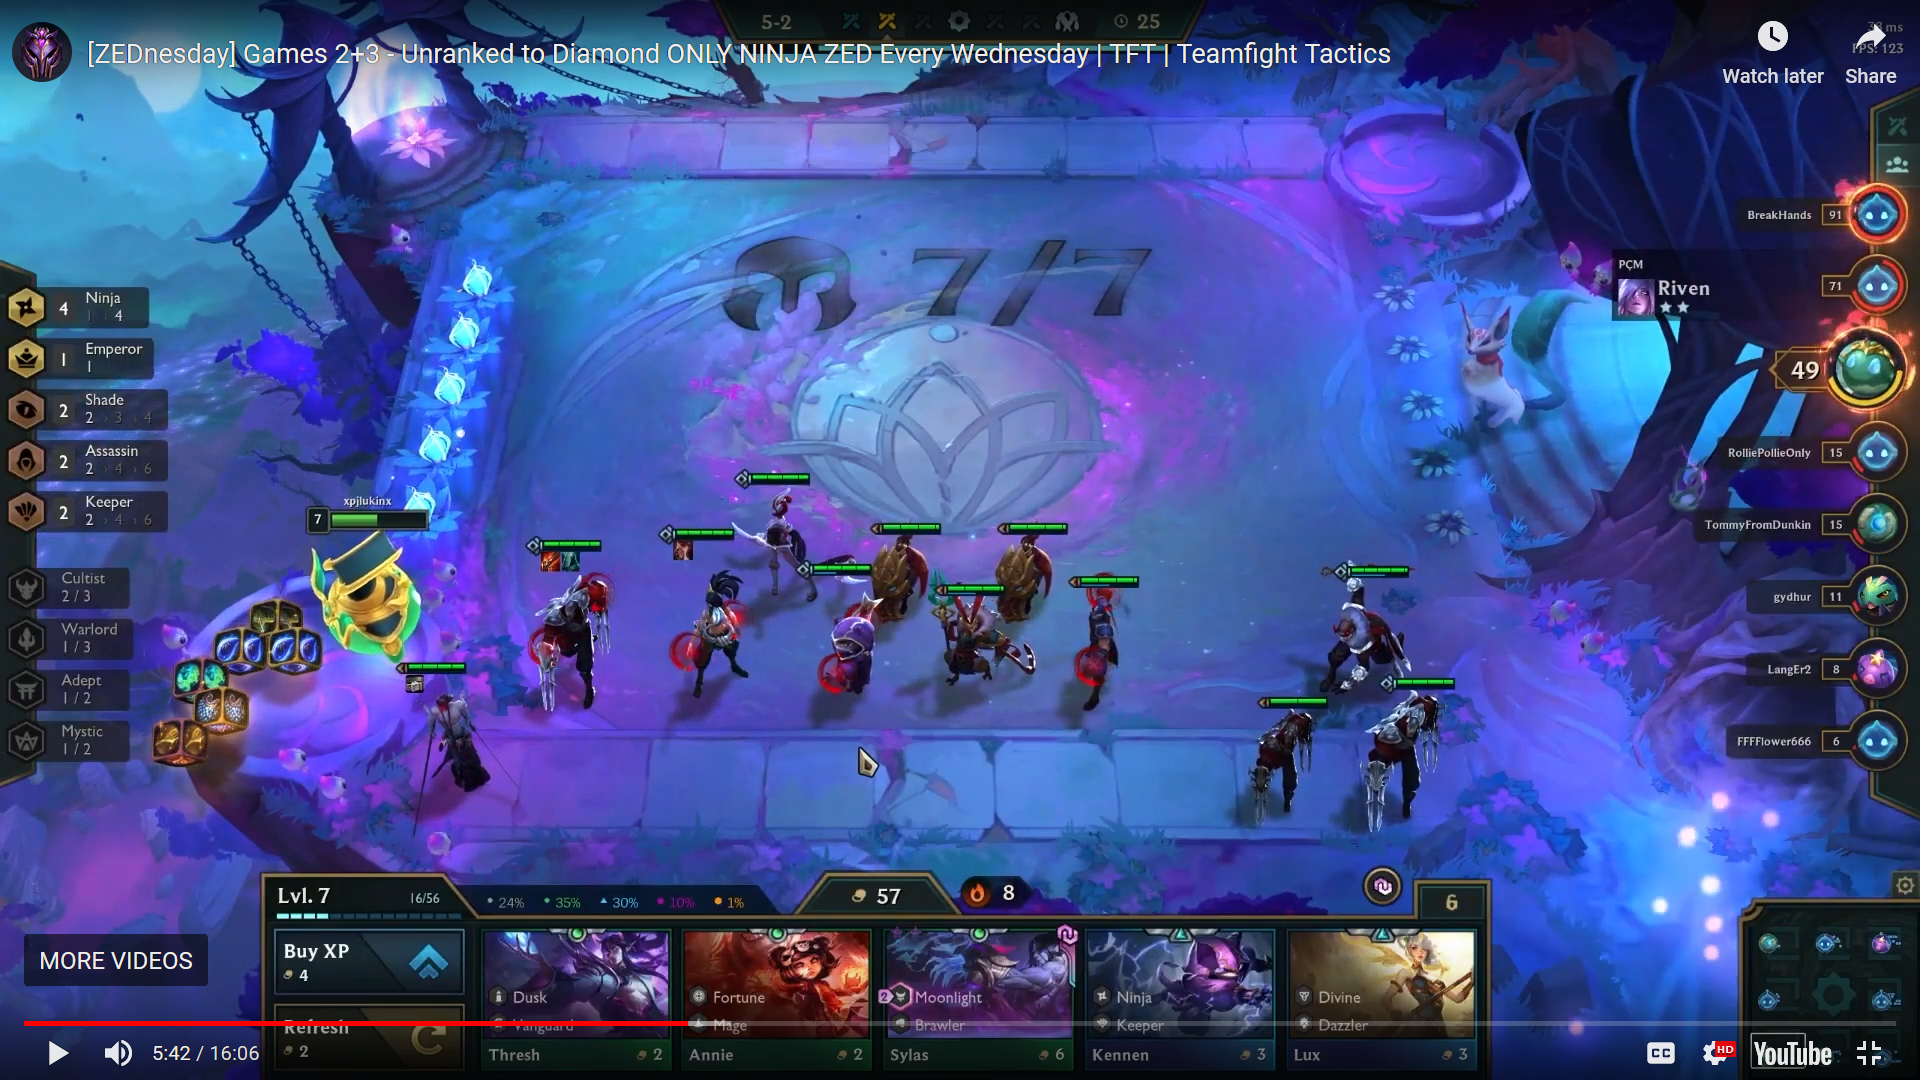1star_azir: (914, 568, 1048, 713)
1star_azirsoldier: (971, 508, 1076, 636), (847, 506, 951, 634)
1star_shen: (1054, 560, 1156, 728)
1star_yone: (384, 649, 535, 848)
2star_akali: (640, 506, 771, 717)
2star_evelynn: (719, 463, 829, 617)
2star_kennen: (786, 551, 903, 713)
2star_pyke: (1302, 545, 1432, 717)
2star_zed: (505, 524, 626, 724), (1346, 663, 1462, 844)
item_belt: (402, 670, 427, 698)
item_quicksilver: (558, 549, 582, 574)
item_rfc: (539, 549, 563, 574)
item_zeke: (671, 537, 695, 562)
trait_adept1: (1, 659, 189, 713)
trait_assassin2: (1, 433, 189, 487)
trait_cultist2: (1, 556, 189, 612)
trait_emperor1: (1, 331, 189, 386)
trait_keeper2: (1, 484, 189, 539)
trait_mystic1: (1, 713, 189, 769)
trait_ninja4: (1, 280, 189, 334)
trait_shade2: (1, 382, 189, 436)
trait_warlord1: (1, 609, 189, 665)
